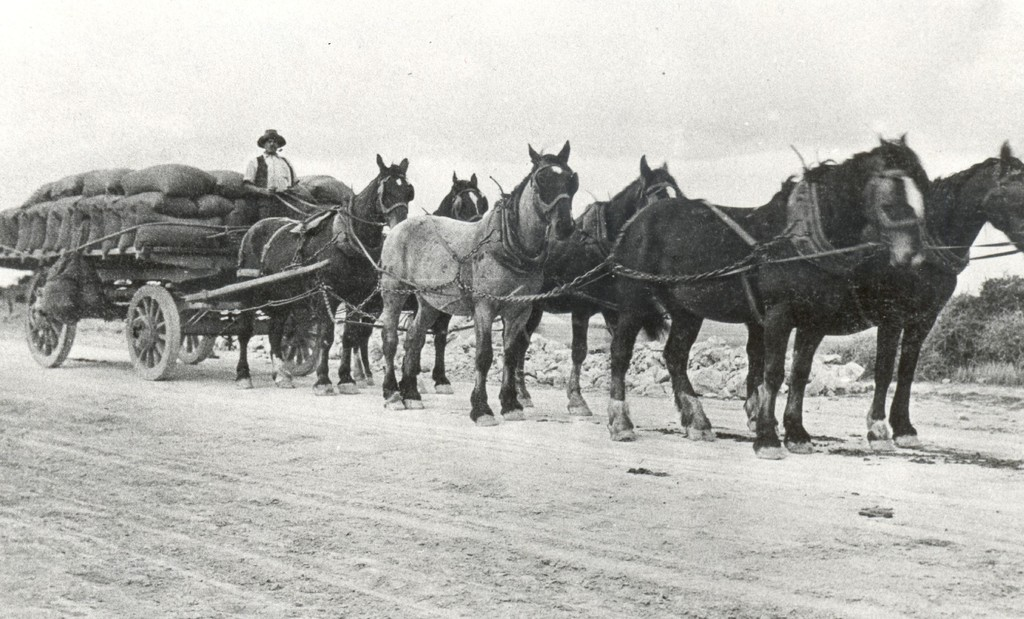Person: (241, 129, 300, 217)
